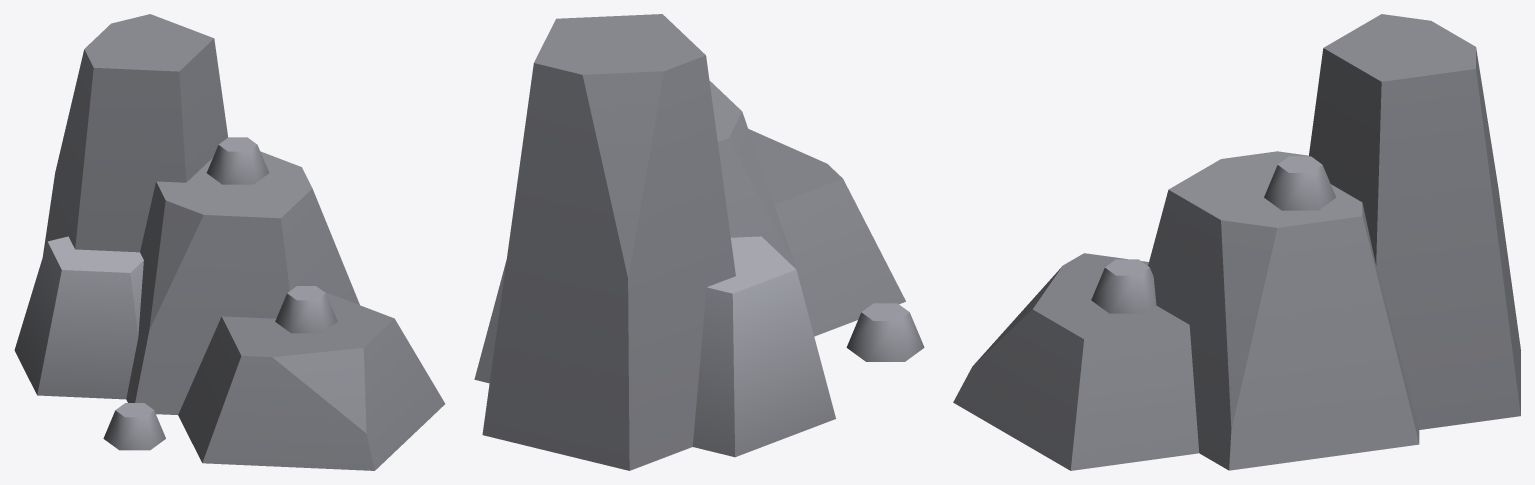
The model's file is rock-wide.glb.
3 renders of one model, left to right at view 1: azimuth 30°, elevation 25°; view 2: azimuth 150°, elevation 25°; view 3: azimuth 270°, elevation 25°, orthographic. The views are drawn at different scales.
Visible parts, largest first — view 1: rock-wide; view 2: rock-wide; view 3: rock-wide.
Part boxes in pixels (x1,y1,x2,y2): rock-wide: (14, 14, 445, 470); rock-wide: (474, 14, 924, 470); rock-wide: (953, 14, 1520, 470).
Bounding box in the file's own units: 1.09 × 1.02 × 1.57.
1 material, 1 textured.
